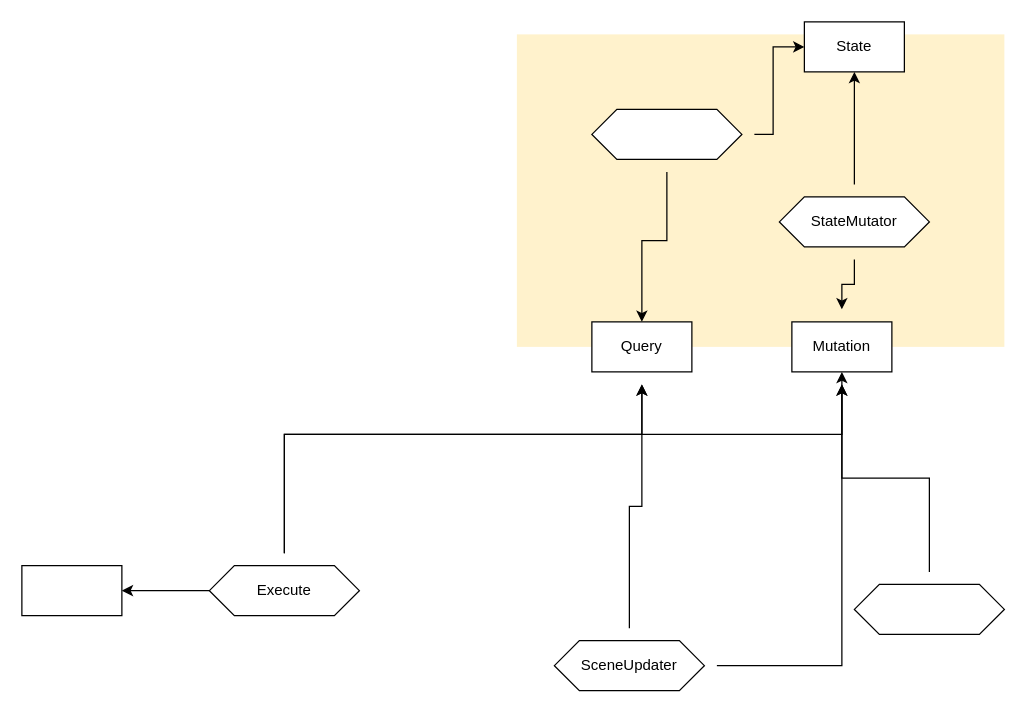
Some shapes in this 1026 by 713 pixel diagram are drawn without their labels. The box of each missing label's shape, as (x1, y1, x2, y2) in pixels:
Command: (21, 564, 122, 616)
Logger: (853, 583, 1004, 634)
StateQuerier: (591, 108, 742, 159)
